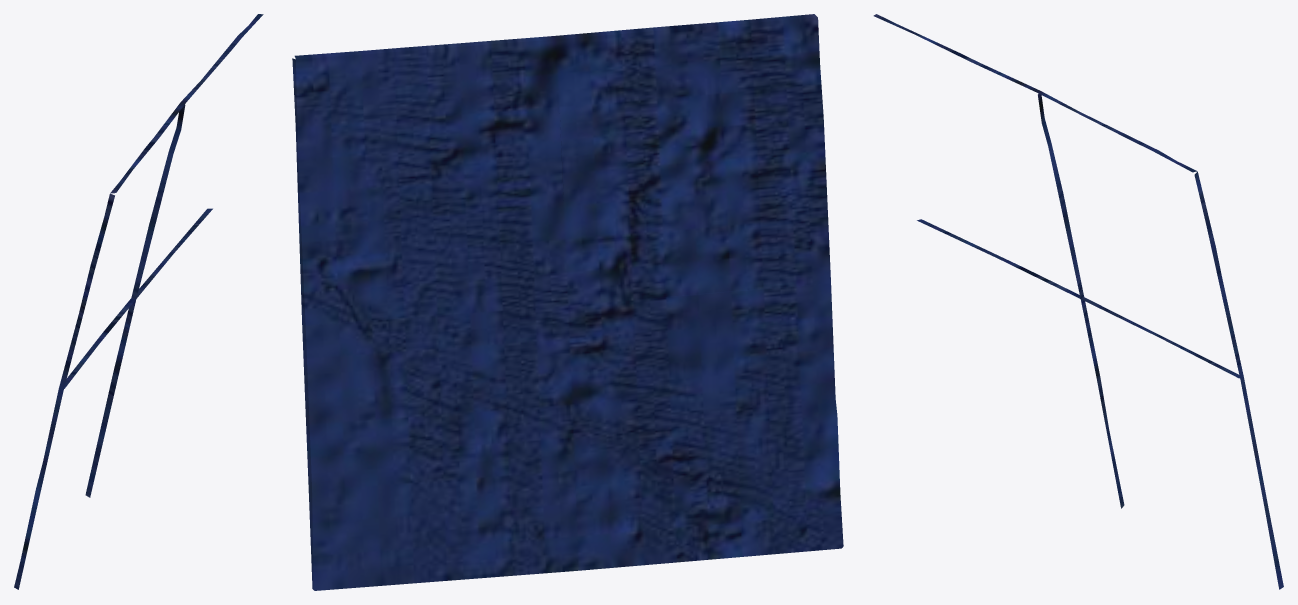
3 views of the same model, side by side, from view 1: azimuth 30°, elevation 25°; view 2: azimuth 150°, elevation 25°; view 3: azimuth 270°, elevation 25° (orthographic). The views are drawn at different scales.
Bounding box in the file's own units: 280093 × 307664 × 255606.
Materials: 1 (1 with a texture image).
